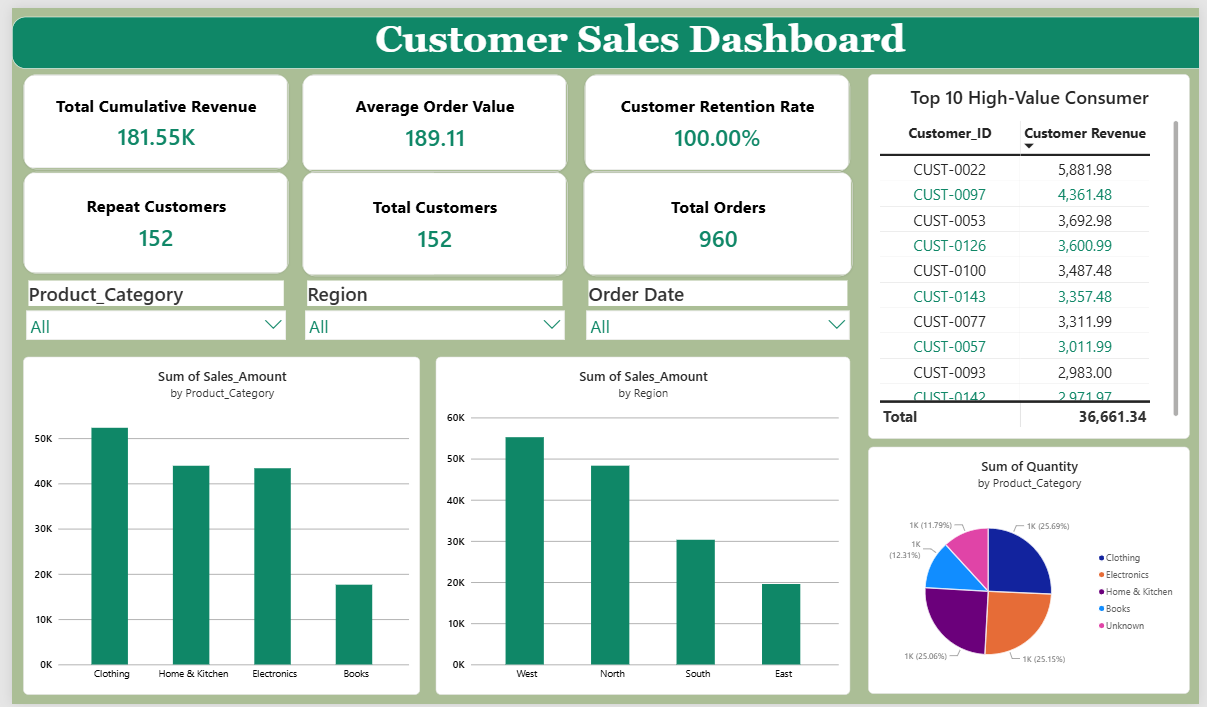

The dashboard page shown, as its layout file describes it:
{"tool":"powerbi","page":{"name":"Page 1","canvas":[1827,1072],"ordinal":0},"visuals":[{"type":"cardVisual","fields":{"Data":["cleaned_customer_sales.Total Revenue"]},"box":[17.9,101.8,408.9,146.4],"z":0},{"type":"textbox","box":[0,13.1,1919.7,80.3],"z":1000},{"type":"cardVisual","fields":{"Data":["cleaned_customer_sales.Average Order Value"]},"box":[446.4,101.8,408.9,150],"z":2000},{"type":"cardVisual","fields":{"Data":["cleaned_customer_sales.Customer Retention Rate"]},"box":[880.4,101.8,408.9,150],"z":3000},{"type":"slicer","title":"Top 10 High-Value Consumer Cohort","fields":{"Values":["cleaned_customer_sales.Region"]},"box":[446.4,419.6,408.9,92.9],"z":4000},{"type":"columnChart","fields":{"Category":["cleaned_customer_sales.Product_Category"],"Y":["Sum(cleaned_customer_sales.Sales_Amount)"]},"box":[17.9,535.7,610.7,519.6],"z":5000},{"type":"tableEx","title":"Top 10 High-Value Consumer ","fields":{"Values":["cleaned_customer_sales.Customer_ID","cleaned_customer_sales.Customer Revenue"]},"box":[1317.9,101.8,494.6,560.7],"z":6000},{"type":"slicer","fields":{"Values":["cleaned_customer_sales.Product_Category"]},"box":[17.9,419.6,408.9,116.1],"z":7000},{"type":"cardVisual","fields":{"Data":["cleaned_customer_sales.Repeat Customers"]},"box":[17.9,251.8,408.9,157.1],"z":7001},{"type":"cardVisual","fields":{"Data":["cleaned_customer_sales.Total Customers"]},"box":[446.4,251.8,408.9,160.7],"z":7002},{"type":"cardVisual","fields":{"Data":["cleaned_customer_sales.Total Orders"]},"box":[878.6,251.8,414.3,160.7],"z":7003},{"type":"pieChart","fields":{"Category":["cleaned_customer_sales.Product_Category"],"Y":["Sum(cleaned_customer_sales.Quantity)"]},"box":[1317.9,675,494.6,380.4],"z":7004},{"type":"columnChart","fields":{"Category":["cleaned_customer_sales.Region"],"Y":["Sum(cleaned_customer_sales.Sales_Amount)"]},"box":[651.8,535.7,637.5,519.6],"z":7005},{"type":"slicer","fields":{"Values":["cleaned_customer_sales.Order_Date.Variation.Date Hierarchy.Year","cleaned_customer_sales.Order_Date.Variation.Date Hierarchy.Month","cleaned_customer_sales.Order_Date.Variation.Date Hierarchy.Day"]},"box":[878.6,419.6,414.3,92.9],"z":7006}]}

Visuals, with their boxes in screenshot pixels (x1, y1, x2, y2), scaled from the page's 1827x1072 canvas onto the 1207x707 screenshot:
cardVisual - cleaned_customer_sales.Total Revenue: (left=12, top=67, right=282, bottom=164)
textbox: (left=0, top=9, right=1206, bottom=62)
cardVisual - cleaned_customer_sales.Average Order Value: (left=295, top=67, right=565, bottom=166)
cardVisual - cleaned_customer_sales.Customer Retention Rate: (left=582, top=67, right=852, bottom=166)
"Top 10 High-Value Consumer Cohort" slicer: (left=295, top=277, right=565, bottom=338)
columnChart - cleaned_customer_sales.Product_Category x Sum(cleaned_customer_sales.Sales_Amount): (left=12, top=353, right=415, bottom=696)
"Top 10 High-Value Consumer " tableEx: (left=871, top=67, right=1197, bottom=437)
slicer - cleaned_customer_sales.Product_Category: (left=12, top=277, right=282, bottom=353)
cardVisual - cleaned_customer_sales.Repeat Customers: (left=12, top=166, right=282, bottom=270)
cardVisual - cleaned_customer_sales.Total Customers: (left=295, top=166, right=565, bottom=272)
cardVisual - cleaned_customer_sales.Total Orders: (left=580, top=166, right=854, bottom=272)
pieChart - cleaned_customer_sales.Product_Category x Sum(cleaned_customer_sales.Quantity): (left=871, top=445, right=1197, bottom=696)
columnChart - cleaned_customer_sales.Region x Sum(cleaned_customer_sales.Sales_Amount): (left=431, top=353, right=852, bottom=696)
slicer - cleaned_customer_sales.Order_Date.Variation.Date Hierarchy.Year x cleaned_customer_sales.Order_Date.Variation.Date Hierarchy.Month: (left=580, top=277, right=854, bottom=338)
